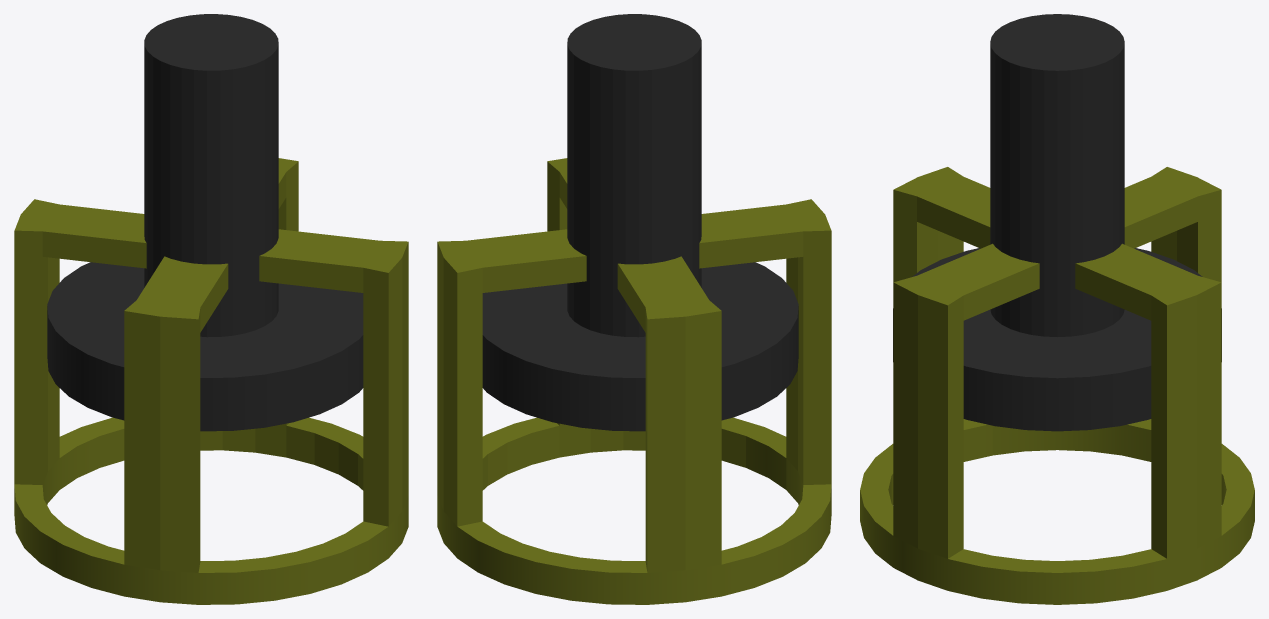
The model's file is Tower_Pounder.fbx.
3 renders of one model, left to right at view 1: azimuth 30°, elevation 25°; view 2: azimuth 150°, elevation 25°; view 3: azimuth 270°, elevation 25°, orthographic.
Visible parts, largest first — view 1: Cylinder010, Cylinder011; view 2: Cylinder010, Cylinder011; view 3: Cylinder010, Cylinder011.
Boxes of the visible parts, x1=… form: Cylinder010: x1=14, y1=158, x2=408, y2=604; Cylinder011: x1=47, y1=14, x2=363, y2=431; Cylinder010: x1=437, y1=158, x2=831, y2=604; Cylinder011: x1=482, y1=14, x2=798, y2=431; Cylinder010: x1=860, y1=167, x2=1254, y2=604; Cylinder011: x1=893, y1=14, x2=1221, y2=431.
Size of the model in its own units: 33.61 by 45.02 by 33.61.
